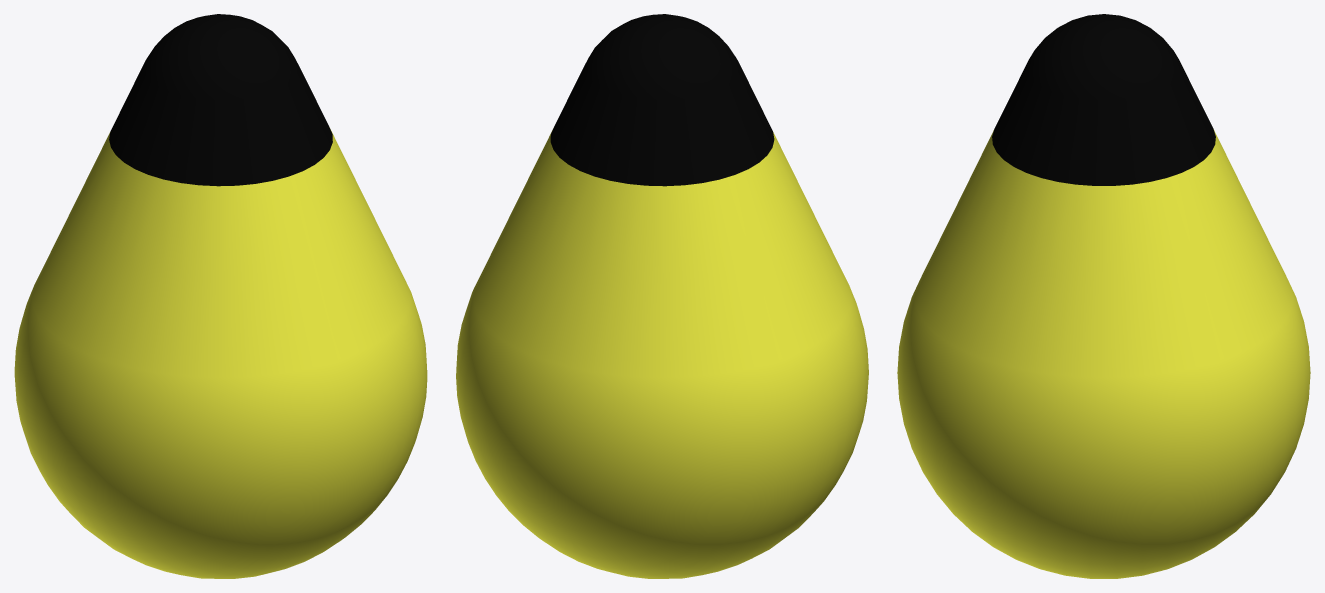
The model's file is A-0-Yellow.dae.
3 renders of one model, left to right at view 1: azimuth 30°, elevation 25°; view 2: azimuth 150°, elevation 25°; view 3: azimuth 270°, elevation 25°, orthographic.
Parts seen in each view (by area): view 1: A-0-Yellow; view 2: A-0-Yellow; view 3: A-0-Yellow.
Boxes of the visible parts, left/top/right/bottom form: A-0-Yellow: left=14, top=14, right=427, bottom=578; A-0-Yellow: left=456, top=14, right=868, bottom=578; A-0-Yellow: left=897, top=14, right=1310, bottom=578.
Bounding box in the file's own units: 7.98 × 8 × 11.48.
